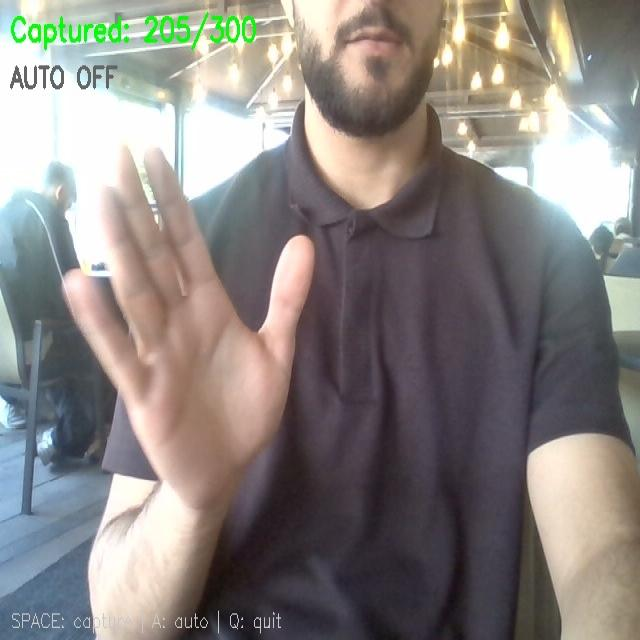Hand: (65, 148, 313, 509)
